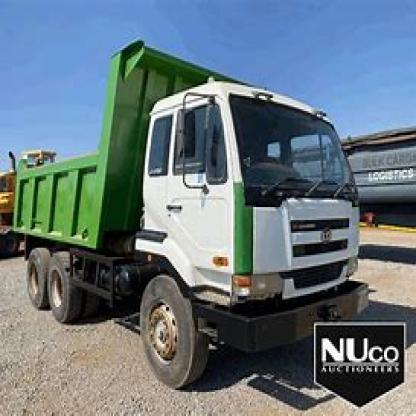dump_truck: (9, 35, 399, 390)
